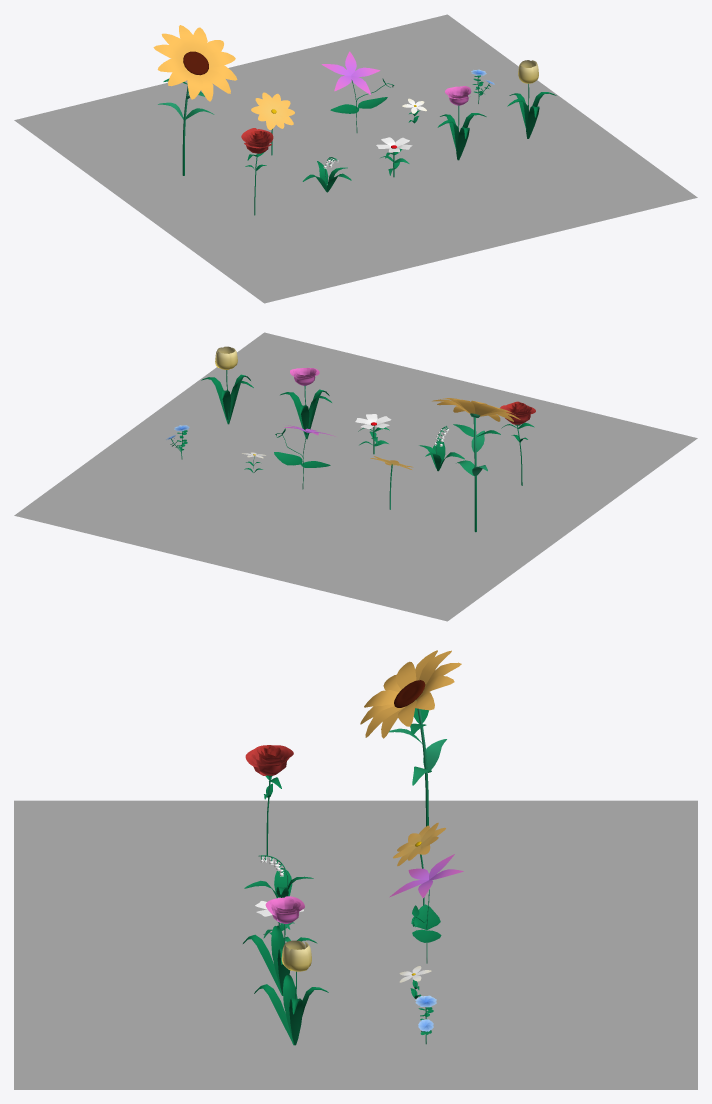
The model's file is lowPolyFlower.glb.
The picture shows the model from 3 angles, top to bottom: view 1: azimuth 30°, elevation 25°; view 2: azimuth 150°, elevation 25°; view 3: azimuth 270°, elevation 25°; orthographic projection. The views are drawn at different scales.
Parts seen in each view (by area): view 1: object 1, object 2, object 6; view 2: object 1, object 2; view 3: object 1, object 2.
Boxes of the visible parts, left/top/right/bottom form: object 1: left=14, top=14, right=697, bottom=303; object 2: left=153, top=25, right=556, bottom=215; object 6: left=183, top=51, right=208, bottom=75; object 1: left=14, top=332, right=697, bottom=621; object 2: left=166, top=346, right=535, bottom=532; object 1: left=14, top=800, right=697, bottom=1089; object 2: left=243, top=650, right=463, bottom=1045.
Size of the model in its own units: 636 by 195 by 636.
Materials: 14 (10 with a texture image).
